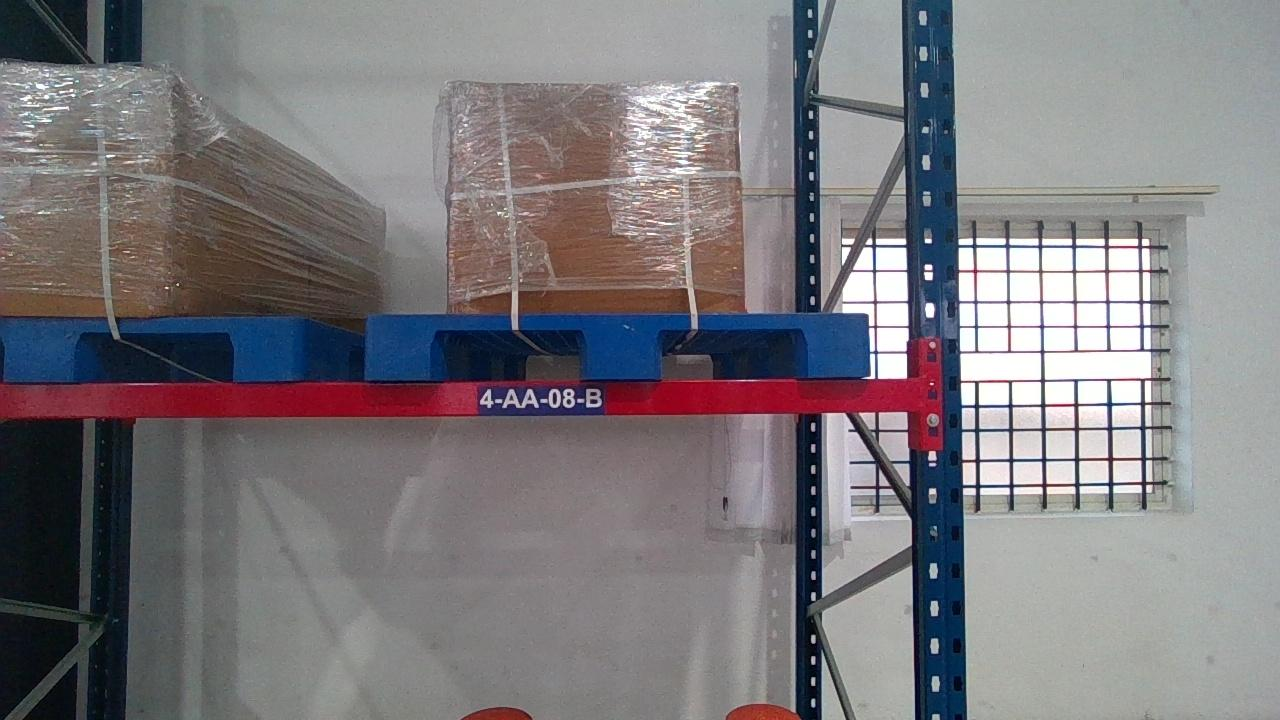h_rack: (2, 377, 924, 416)
small_pallet: (364, 311, 871, 377), (0, 316, 303, 378)
